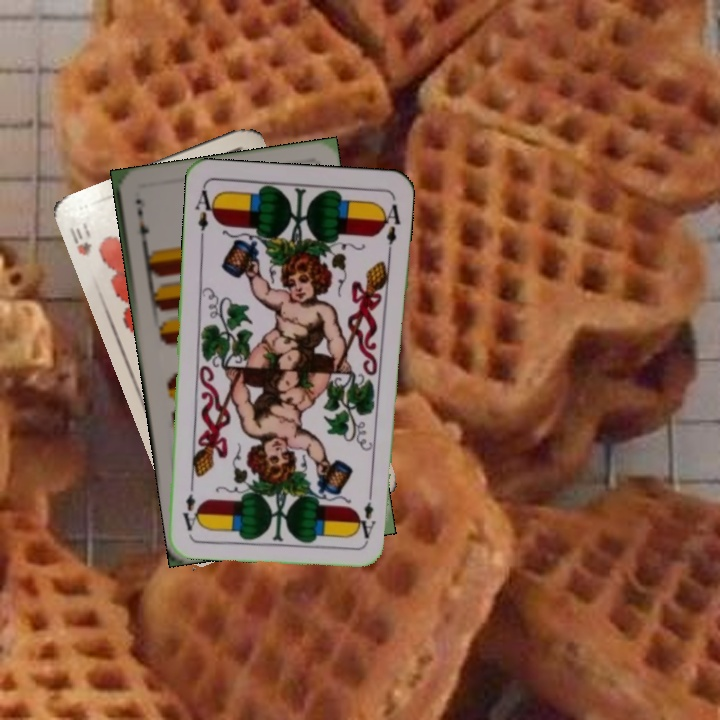E7: (133, 204, 152, 251)
EA: (191, 184, 219, 243), (358, 484, 379, 543)
H10: (65, 218, 95, 259)
